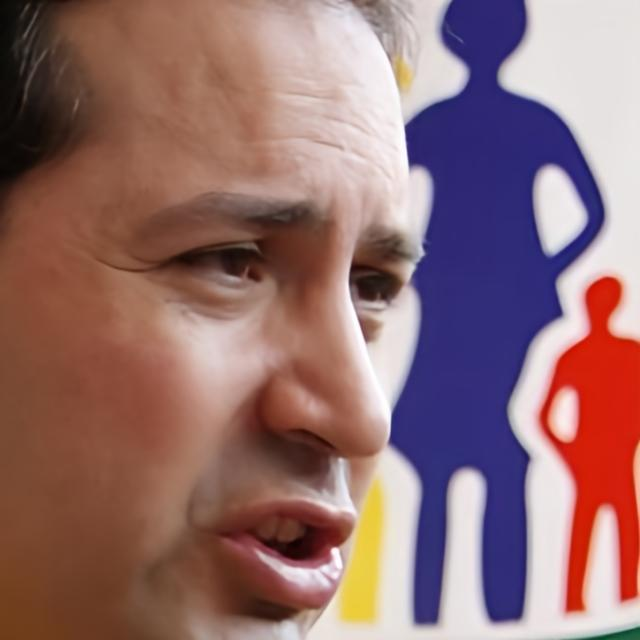sad: (3, 0, 429, 640)
